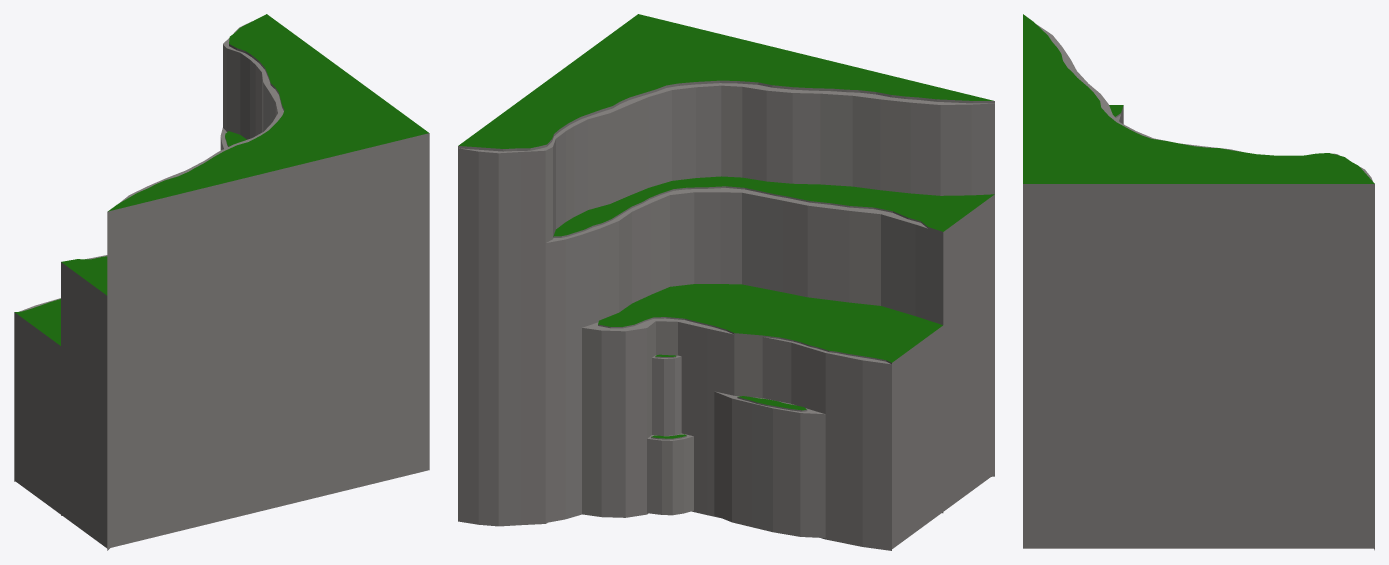
File: MTS.fbx
3 views of the same model, side by side, from view 1: azimuth 30°, elevation 25°; view 2: azimuth 150°, elevation 25°; view 3: azimuth 270°, elevation 25° (orthographic). The views are drawn at different scales.
Parts seen in each view (by area): view 1: Plane.002; view 2: Plane.002; view 3: Plane.002.
Part boxes in pixels (x1,y1,x2,y2): Plane.002: (14,14,429,550); Plane.002: (458,14,994,550); Plane.002: (1023,14,1374,550).
Size of the model in its own units: 100 by 101 by 87.5.
